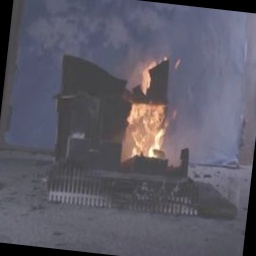fire: (109, 54, 186, 160)
